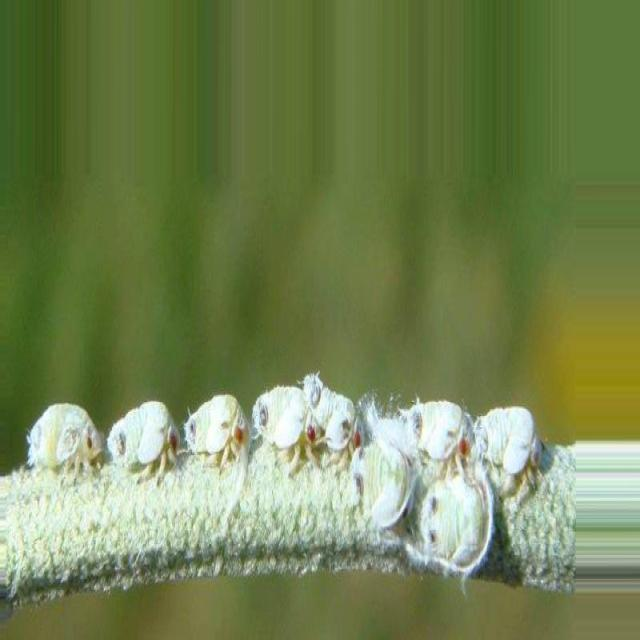Psyllid: (406, 466, 498, 582), (476, 406, 550, 498), (26, 405, 104, 487), (108, 401, 178, 487), (406, 401, 476, 482), (302, 372, 359, 464), (252, 385, 310, 473), (184, 395, 250, 472), (362, 439, 412, 532)
